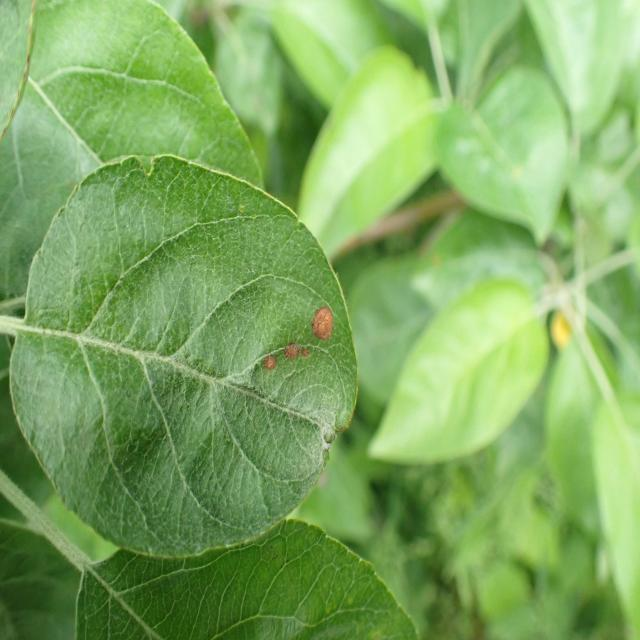Black Rot: (254, 301, 309, 380), (312, 288, 348, 357)
